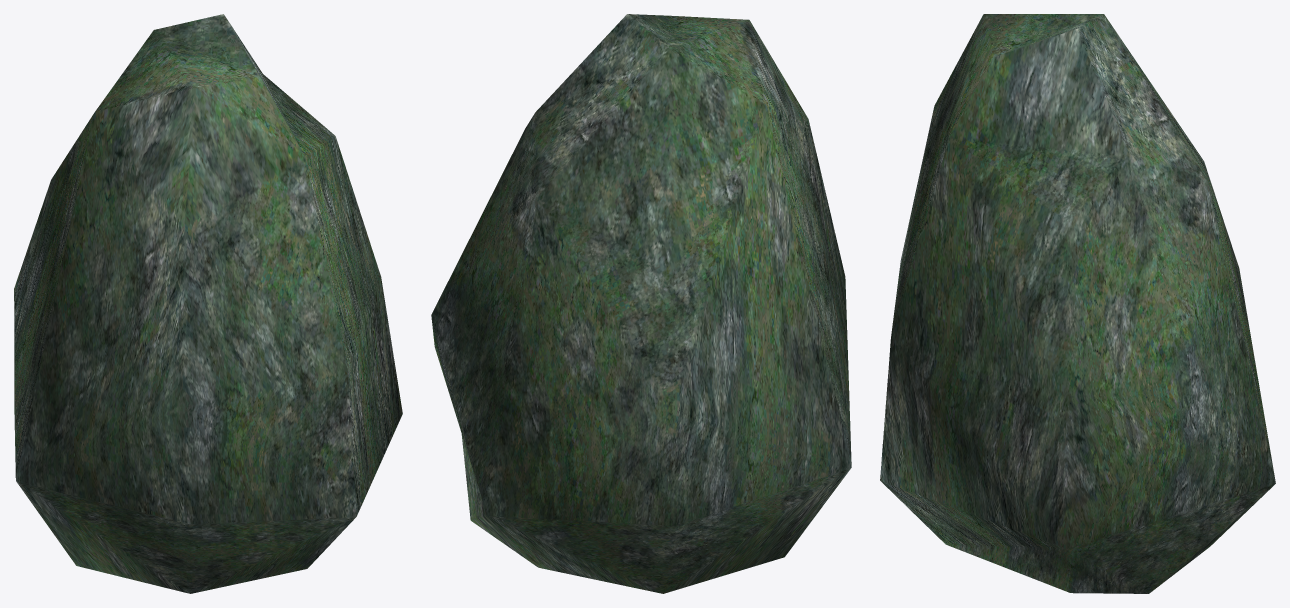
The model's file is rock_mossy_bluebig_l3.fbx.
3 views of the same model, side by side, from view 1: azimuth 30°, elevation 25°; view 2: azimuth 150°, elevation 25°; view 3: azimuth 270°, elevation 25° (orthographic).
Visible parts, largest first — view 1: mesh_node; view 2: mesh_node; view 3: mesh_node.
Boxes of the visible parts, box(x1,y1,x2,y2) form: mesh_node: box(14, 14, 402, 593); mesh_node: box(431, 14, 851, 593); mesh_node: box(880, 14, 1275, 593).
Size of the model in its own units: 6.78 by 8.55 by 6.
Materials: 1 (1 with a texture image).
